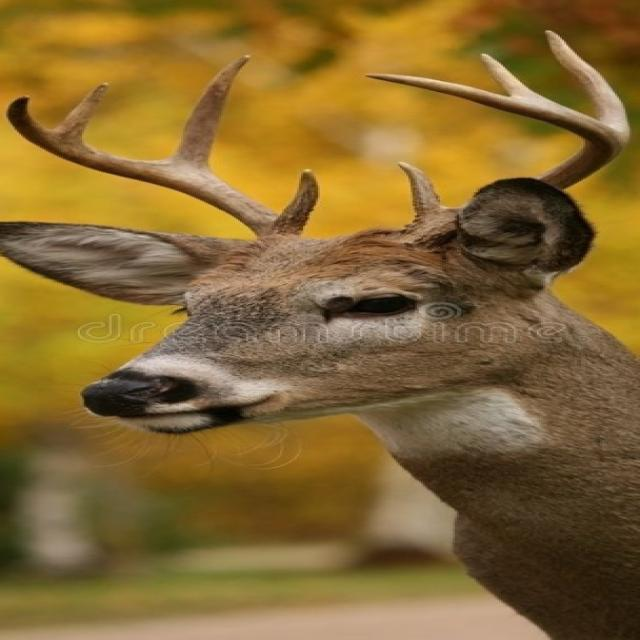L-G1: (397, 161, 445, 217)
L-G2: (543, 29, 629, 134)
R-G1: (273, 170, 321, 231)
R-G2: (171, 54, 250, 168)
